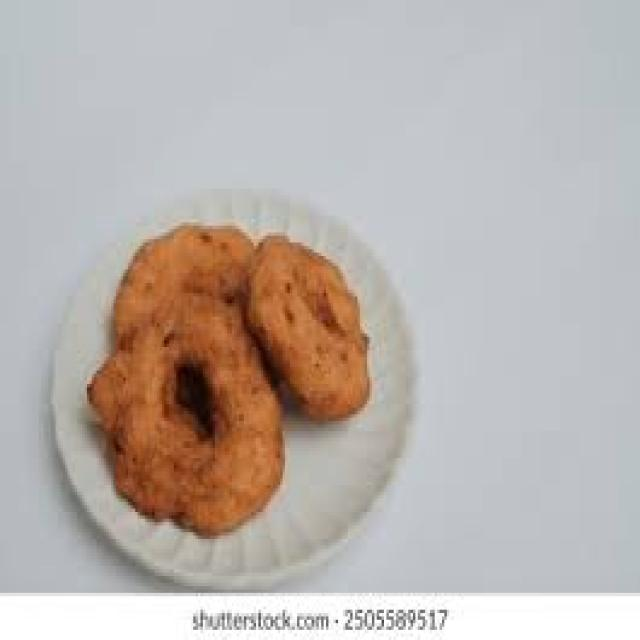MEDU VADA: (89, 290, 280, 532), (249, 236, 367, 418), (114, 222, 251, 337)
